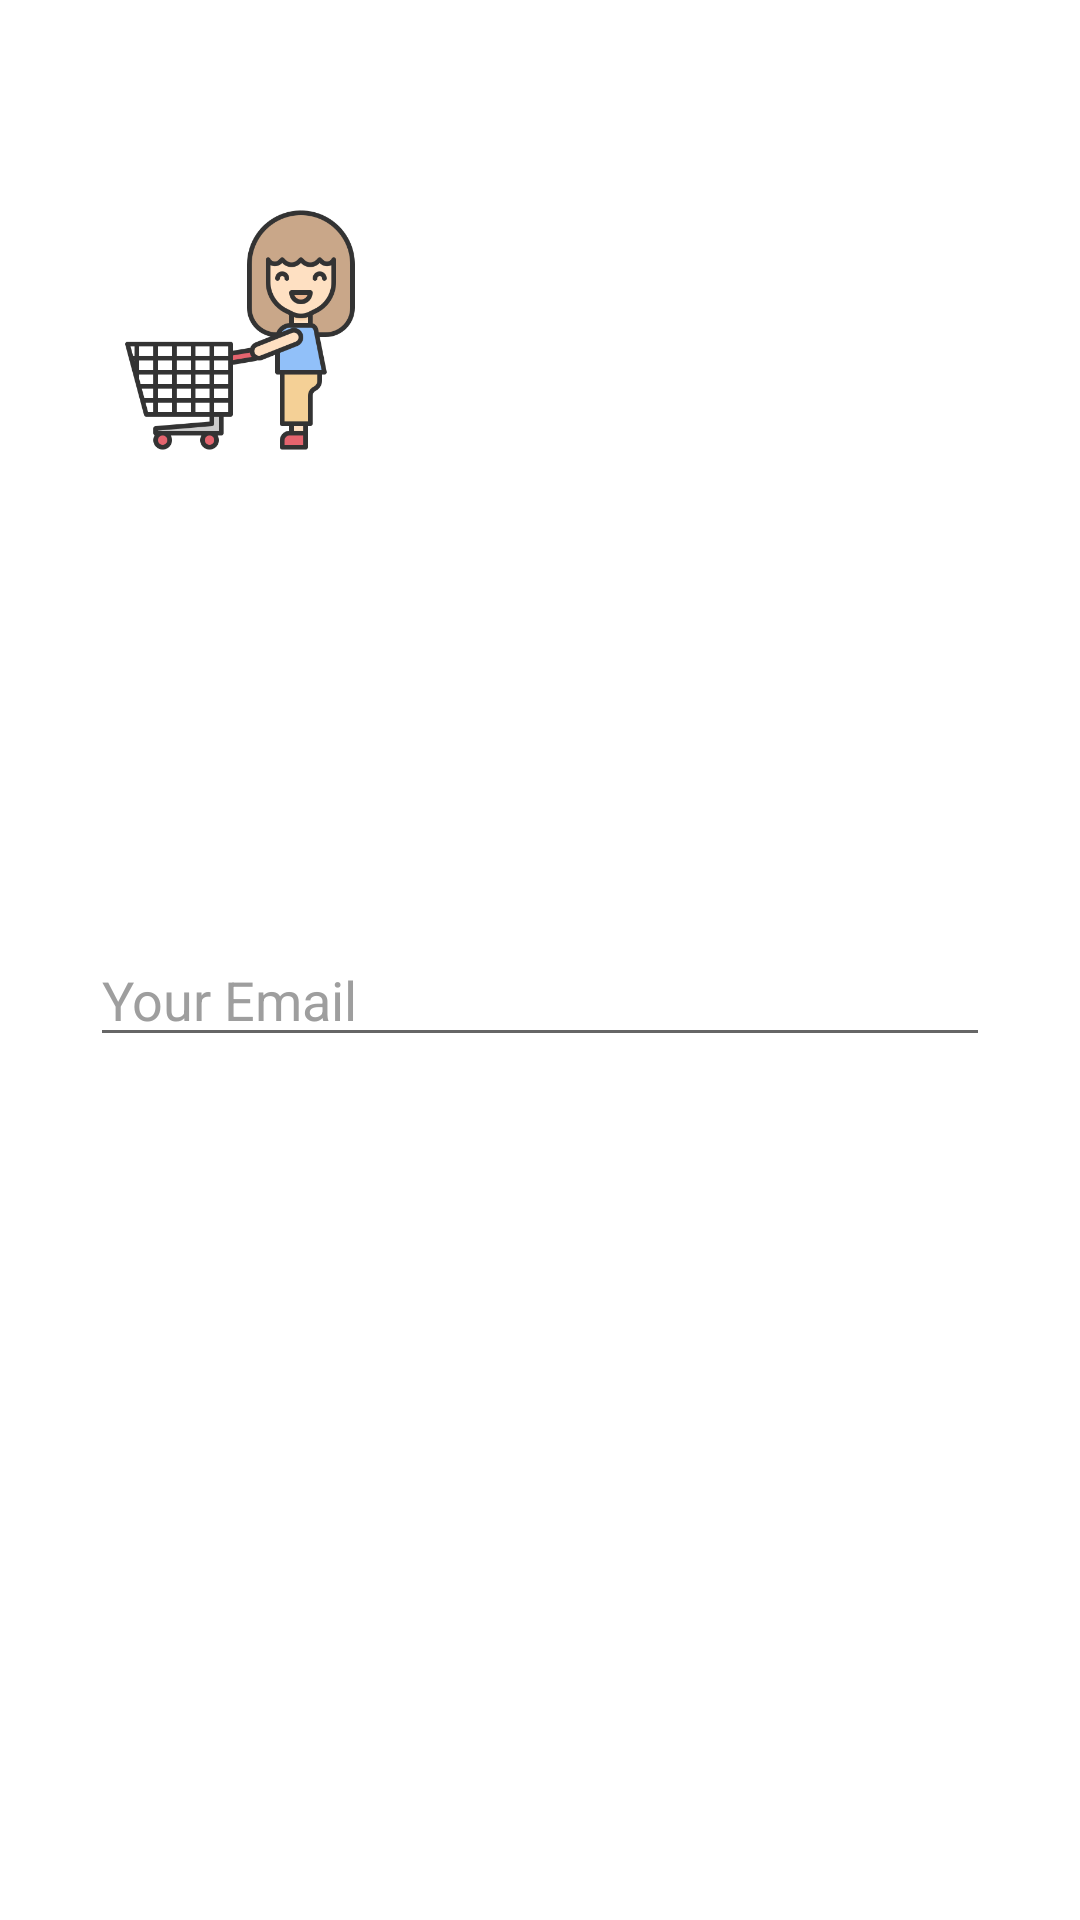

Named icons in this screenshot (1080*1920) and their bounding boxes, (x1, y1, x2, y2):
customer: (125, 210, 355, 450)
